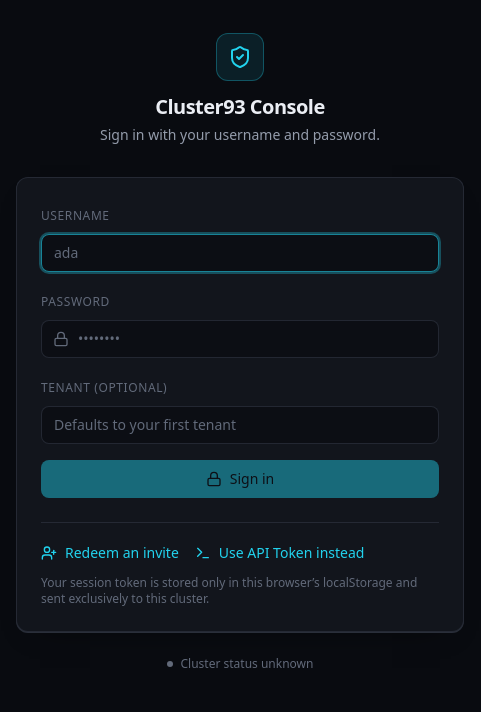
Test: LoginView › renders the redeem invite form
What coordinates should you click on to do the following:
click the button "Redeem an invite"
I would click on:
 (110, 552)
Its box is [41,542,179,562].
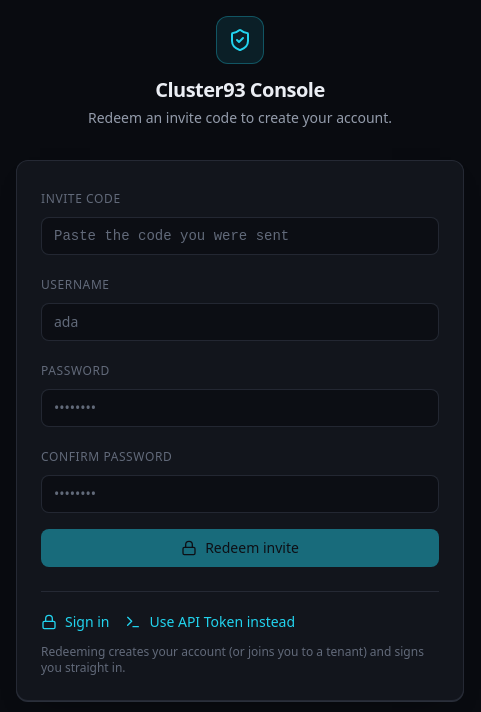
expect the field labelled "Username" is shown: met, box [41,303,439,341]
expect the password field labelled "Password" is shown: met, box [41,389,439,427]
expect the password field labelled "Confirm Password" is shown: met, box [41,475,439,513]
